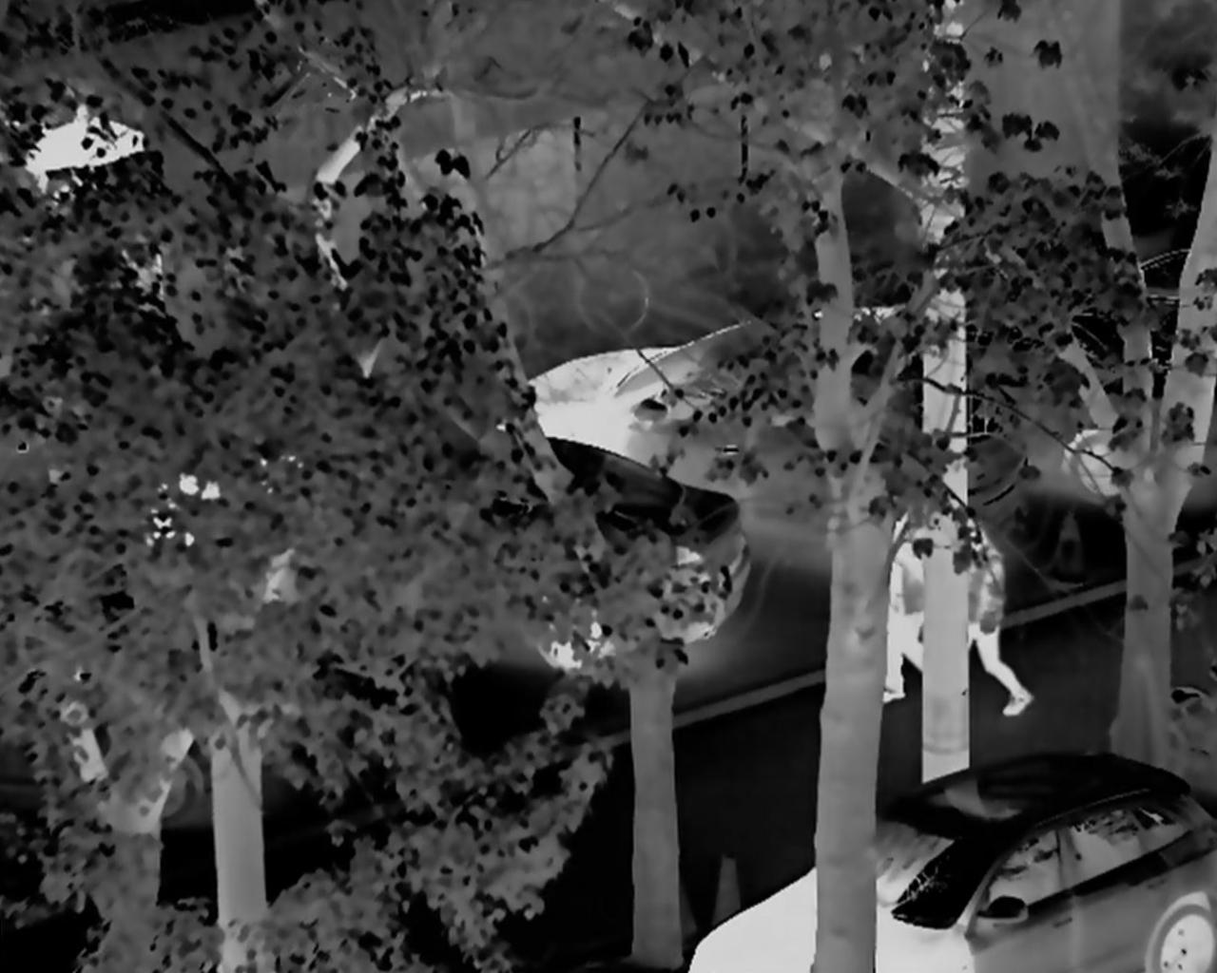person: (930, 500, 1033, 718), (877, 512, 935, 697)
